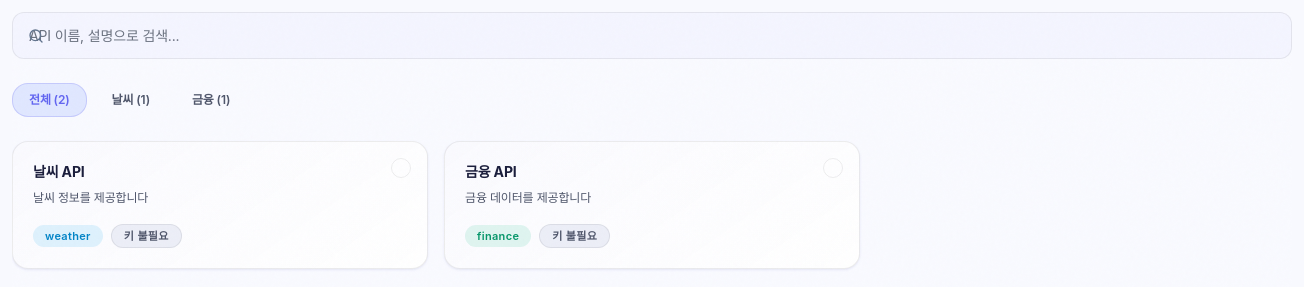
CatalogView › 카테고리 탭 클릭 시 해당 카테고리만 표시된다
Click the button "날씨 (1)" at (131, 100), box x1=95 y1=83 x2=167 y2=117
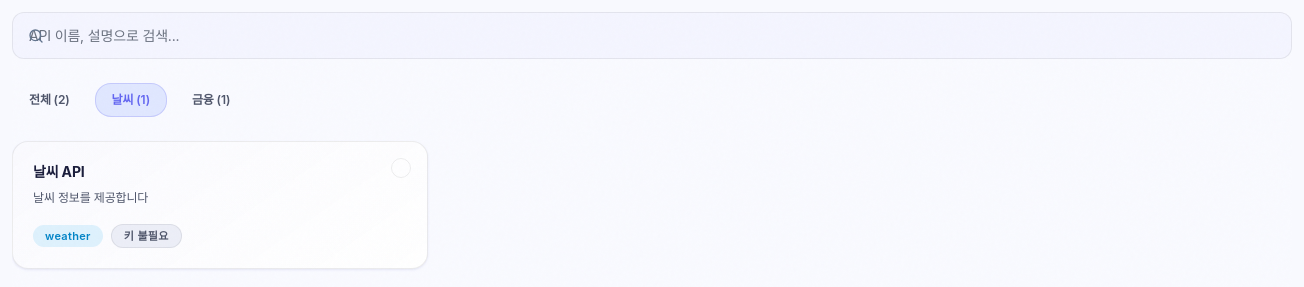
Expected: the heading "날씨 API" is shown, x1=33 y1=163 x2=85 y2=180
Result: the button "금융 API" is gone
